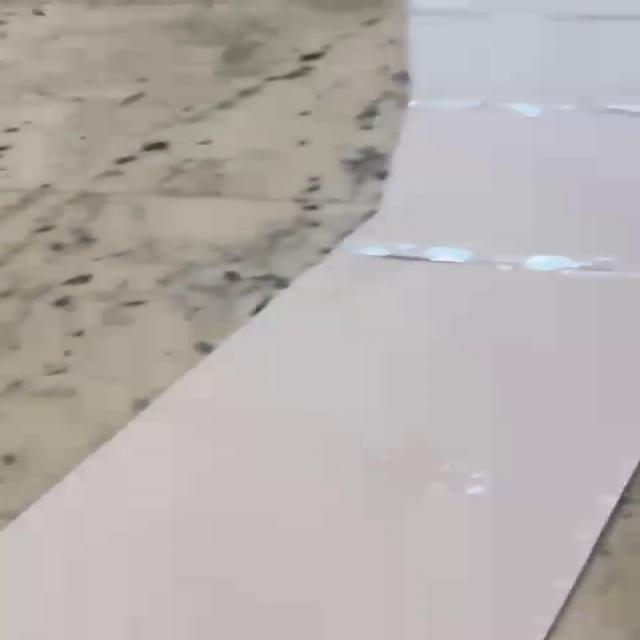road: (0, 0, 640, 640)
